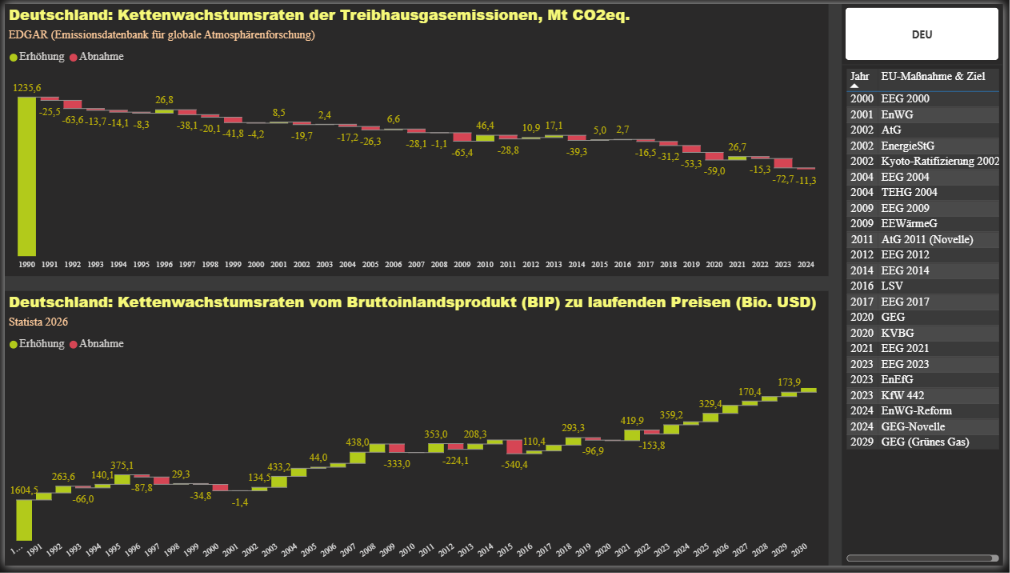

The dashboard page shown, as its layout file describes it:
{"tool":"powerbi","page":{"name":"DE_Kettenwachstumsraten_THG_zu_BIP","canvas":[1280,720],"ordinal":3},"visuals":[{"type":"waterfallChart","title":"Deutschland: Kettenwachstumsraten vom Bruttoinlandsprodukt (BIP) zu laufenden Preisen (Bio. USD)","fields":{"Category":["BIP_DE_99-30.Jahr"],"Y":["Sum(BIP_DE_99-30.Bruttoinlandsprodukt, Mrd.$)","select"]},"box":[0,368,1056,352],"z":0},{"type":"waterfallChart","title":"Deutschland: Kettenwachstumsraten der Treibhausgasemissionen, Mt CO2eq.","fields":{"Category":["dim_year.Jahr"],"Y":["fact_GHG.Total THG","select"]},"box":[0,0,1056.1,349.1],"z":1000},{"type":"tableEx","fields":{"Values":["E-Maßnahme.Jahr","E-Maßnahme.EU-Maßnahme & Ziel"]},"box":[1073.4,77.9,206.3,642],"z":2000},{"type":"advancedSlicerVisual","fields":{"Values":["E-Maßnahme.Ebene"]},"box":[1073.4,0,206.3,77.9],"z":3000}]}

Visuals, with their boxes in screenshot pixels (x1, y1, x2, y2), scaled from the page's 1280x720 canvas onto the 1010x573 screenshot:
"Deutschland: Kettenwachstumsraten vom Bruttoinlandsprodukt (BIP) zu laufenden Preisen (Bio. USD)" waterfallChart: box(0, 293, 833, 572)
"Deutschland: Kettenwachstumsraten der Treibhausgasemissionen, Mt CO2eq." waterfallChart: box(0, 0, 833, 278)
tableEx - E-Maßnahme.Jahr x E-Maßnahme.EU-Maßnahme & Ziel: box(847, 62, 1009, 572)
advancedSlicerVisual - E-Maßnahme.Ebene: box(847, 0, 1009, 62)
